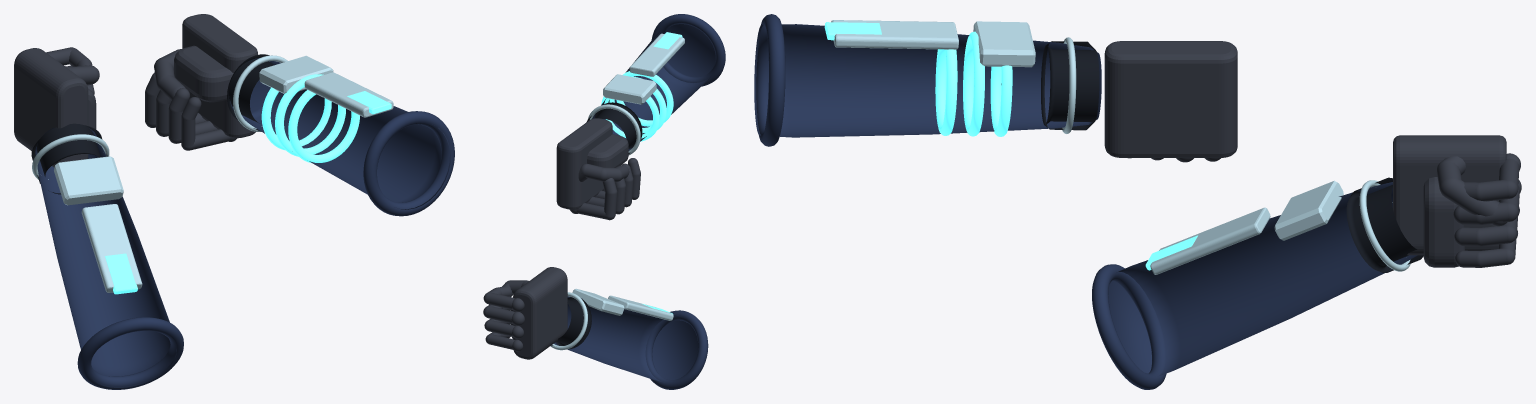
Rendered from hands_glacier_tool.glb.
3 views of the same model, side by side, from view 1: azimuth 30°, elevation 25°; view 2: azimuth 150°, elevation 25°; view 3: azimuth 270°, elevation 25° (orthographic). The views are drawn at different scales.
Visible parts, largest first — view 1: hand_l_forearm, hand_r_forearm, hand_l_palm, hand_r_sleeve_roll, hand_r_palm, hand_l_sleeve_roll, hand_l_cuff_plate, hand_l_forearm_plate, hand_r_heel, hand_l_cuff, hand_r_forearm_plate, hand_r_cuff_plate (+15 smaller); view 2: hand_l_forearm, hand_l_palm, hand_r_forearm, hand_r_palm, hand_l_sleeve_roll, hand_r_sleeve_roll, hand_r_cuff_plate, hand_r_forearm_plate, hand_r_heel, hand_l_cuff, hand_r_cuff, hand_r_finger3 (+17 smaller); view 3: hand_l_forearm, hand_r_forearm, hand_r_palm, hand_l_palm, hand_l_sleeve_roll, hand_r_cuff, hand_r_sleeve_roll, hand_l_cuff, hand_r_forearm_plate, hand_l_heel, hand_l_forearm_plate, hand_r_cuff_plate (+12 smaller).
Boxes of the visible parts, x1,y1,x2,y2 form: hand_l_forearm: (35, 128, 176, 387); hand_r_forearm: (230, 58, 450, 209); hand_l_palm: (14, 48, 88, 167); hand_r_sleeve_roll: (363, 111, 454, 216); hand_r_palm: (182, 14, 257, 138); hand_l_sleeve_roll: (77, 317, 183, 389); hand_l_cuff_plate: (54, 156, 123, 205); hand_l_forearm_plate: (81, 204, 142, 292); hand_r_heel: (174, 45, 233, 102); hand_l_cuff: (31, 123, 107, 194); hand_r_forearm_plate: (304, 72, 393, 117); hand_r_cuff_plate: (259, 55, 333, 93); hand_l_forearm: (554, 296, 698, 382); hand_l_palm: (513, 267, 567, 359); hand_r_forearm: (592, 24, 715, 150); hand_r_palm: (556, 118, 612, 209); hand_l_sleeve_roll: (645, 310, 708, 389); hand_r_sleeve_roll: (651, 14, 725, 86); hand_r_cuff_plate: (603, 74, 656, 104); hand_r_forearm_plate: (629, 33, 684, 76); hand_r_heel: (587, 134, 628, 167); hand_l_cuff: (551, 297, 591, 349); hand_r_cuff: (586, 102, 642, 153); hand_r_finger3: (576, 178, 617, 220); hand_l_forearm: (1108, 182, 1417, 375); hand_r_forearm: (754, 24, 1101, 137); hand_r_palm: (1104, 41, 1237, 157); hand_l_palm: (1393, 135, 1506, 255); hand_l_sleeve_roll: (1092, 264, 1166, 389); hand_r_cuff: (1041, 41, 1099, 130); hand_r_sleeve_roll: (756, 14, 785, 146); hand_l_cuff: (1346, 177, 1423, 272); hand_r_forearm_plate: (831, 20, 958, 49); hand_l_heel: (1423, 177, 1464, 267); hand_l_forearm_plate: (1150, 207, 1270, 274); hand_r_cuff_plate: (973, 21, 1035, 67).
Size of the model in its own units: 0.2264 by 0.3488 by 0.5539.
